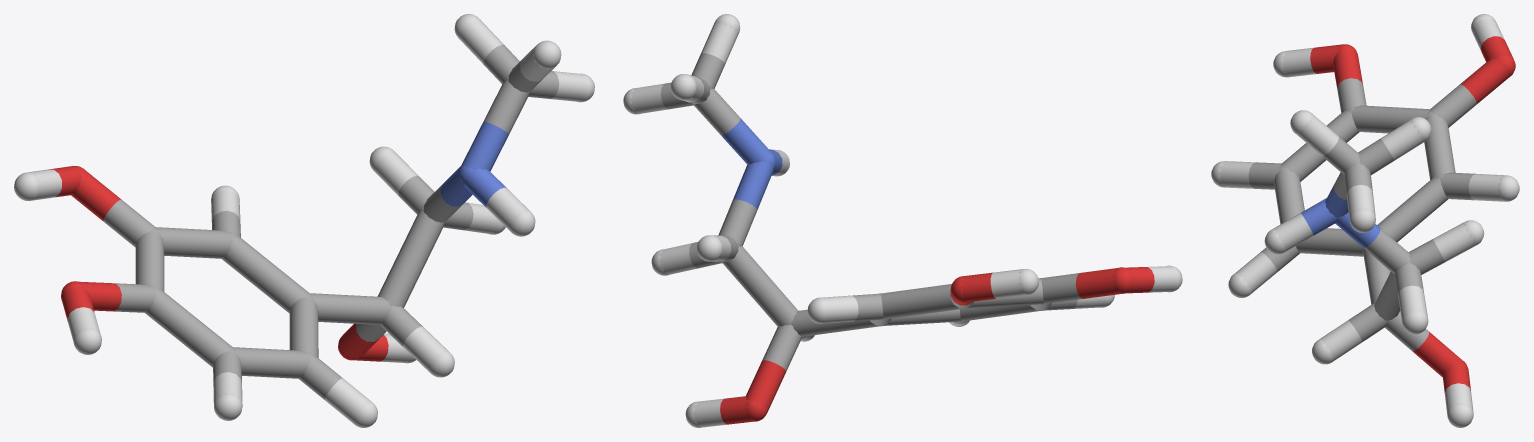
File: adrenaline-sticks.glb
3 views of the same model, side by side, from view 1: azimuth 30°, elevation 25°; view 2: azimuth 150°, elevation 25°; view 3: azimuth 270°, elevation 25° (orthographic). The views are drawn at different scales.
Visible parts, largest first — view 1: adrenaline-sticks; view 2: adrenaline-sticks; view 3: adrenaline-sticks.
Part boxes in pixels (x1,y1,x2,y2): adrenaline-sticks: [14, 14, 594, 427]; adrenaline-sticks: [623, 14, 1182, 427]; adrenaline-sticks: [1211, 14, 1519, 427].
Size of the model in its own units: 8.96 by 5.65 by 4.65.
